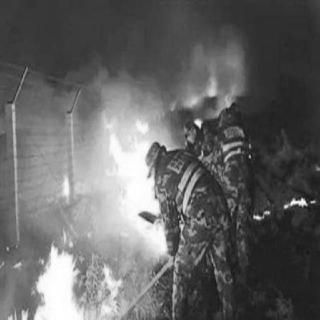Fire: (102, 111, 168, 253), (60, 173, 71, 199), (192, 111, 202, 128)
other: (283, 191, 317, 213), (252, 208, 270, 224)
